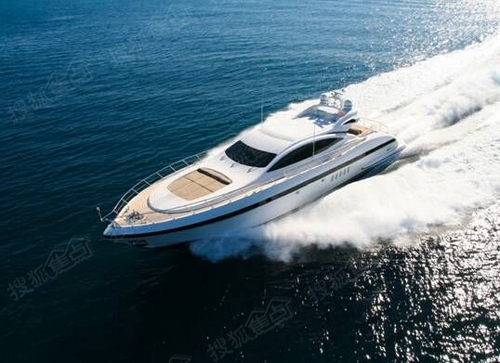yacht: (92, 76, 407, 251)
